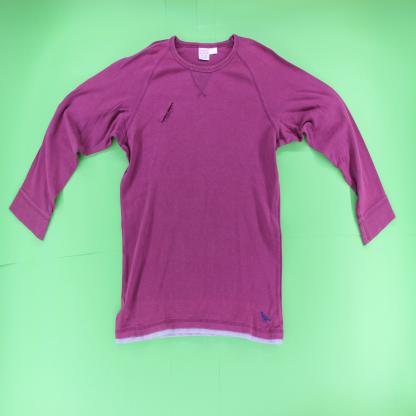hole: (159, 100, 175, 125)
